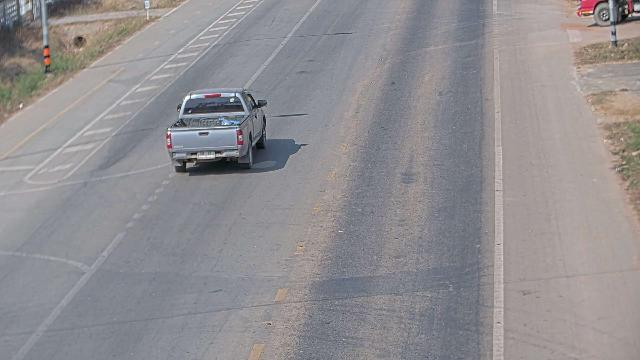pickup-truck: (165, 87, 268, 172), (576, 0, 639, 27)
